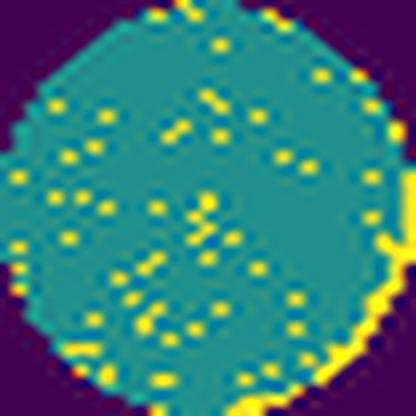Edge-Loc: (315, 164, 415, 388), (220, 380, 312, 416)
